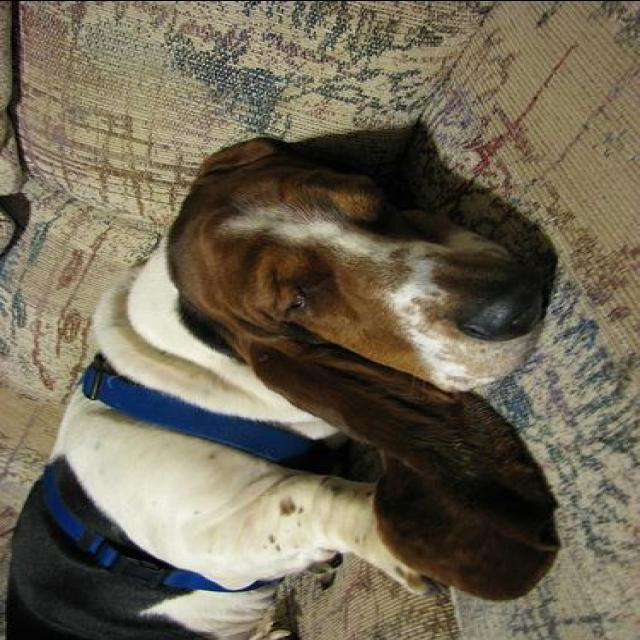basset: (3, 132, 550, 639)
